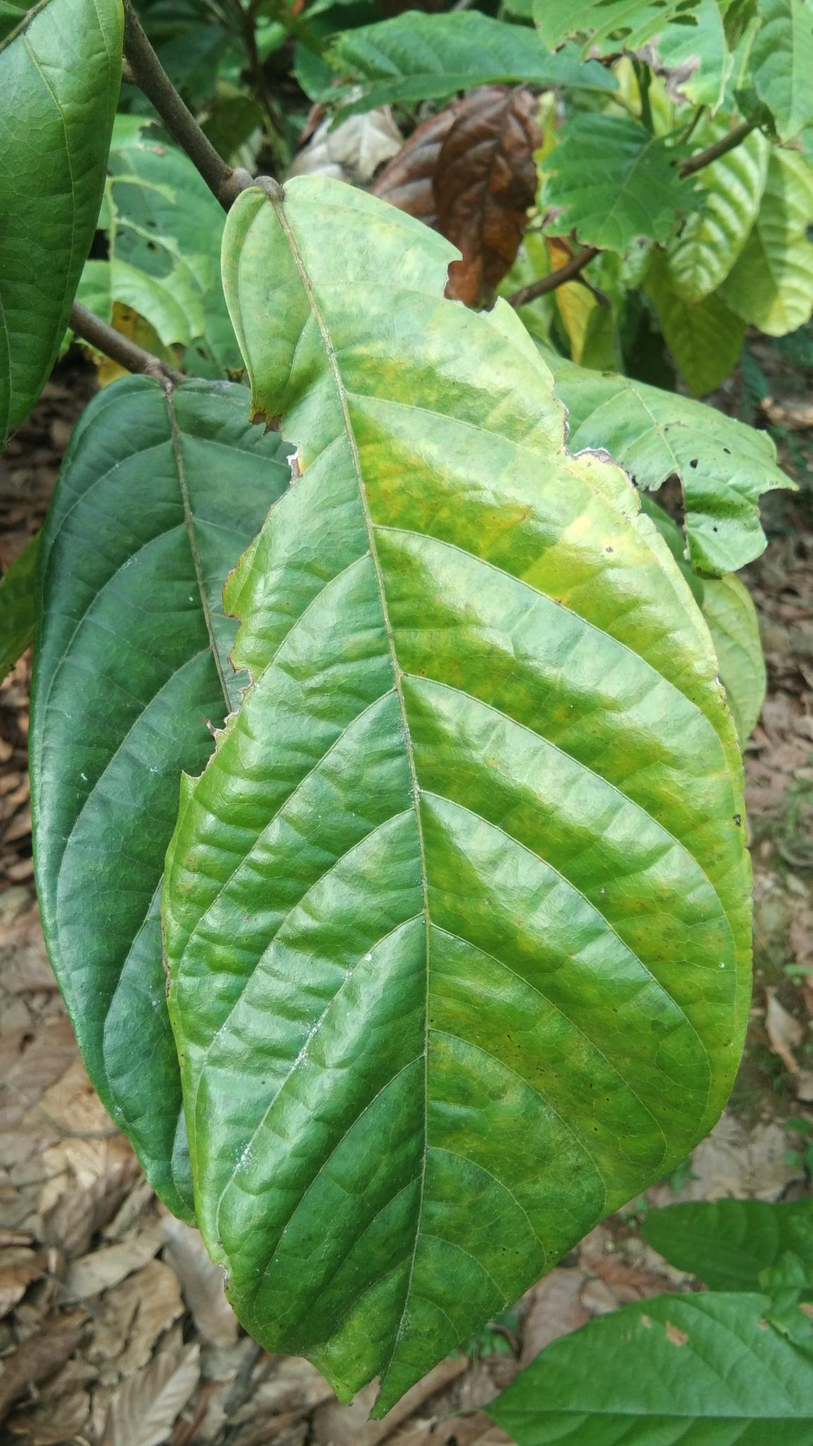Fosforo: (177, 198, 761, 1425)
